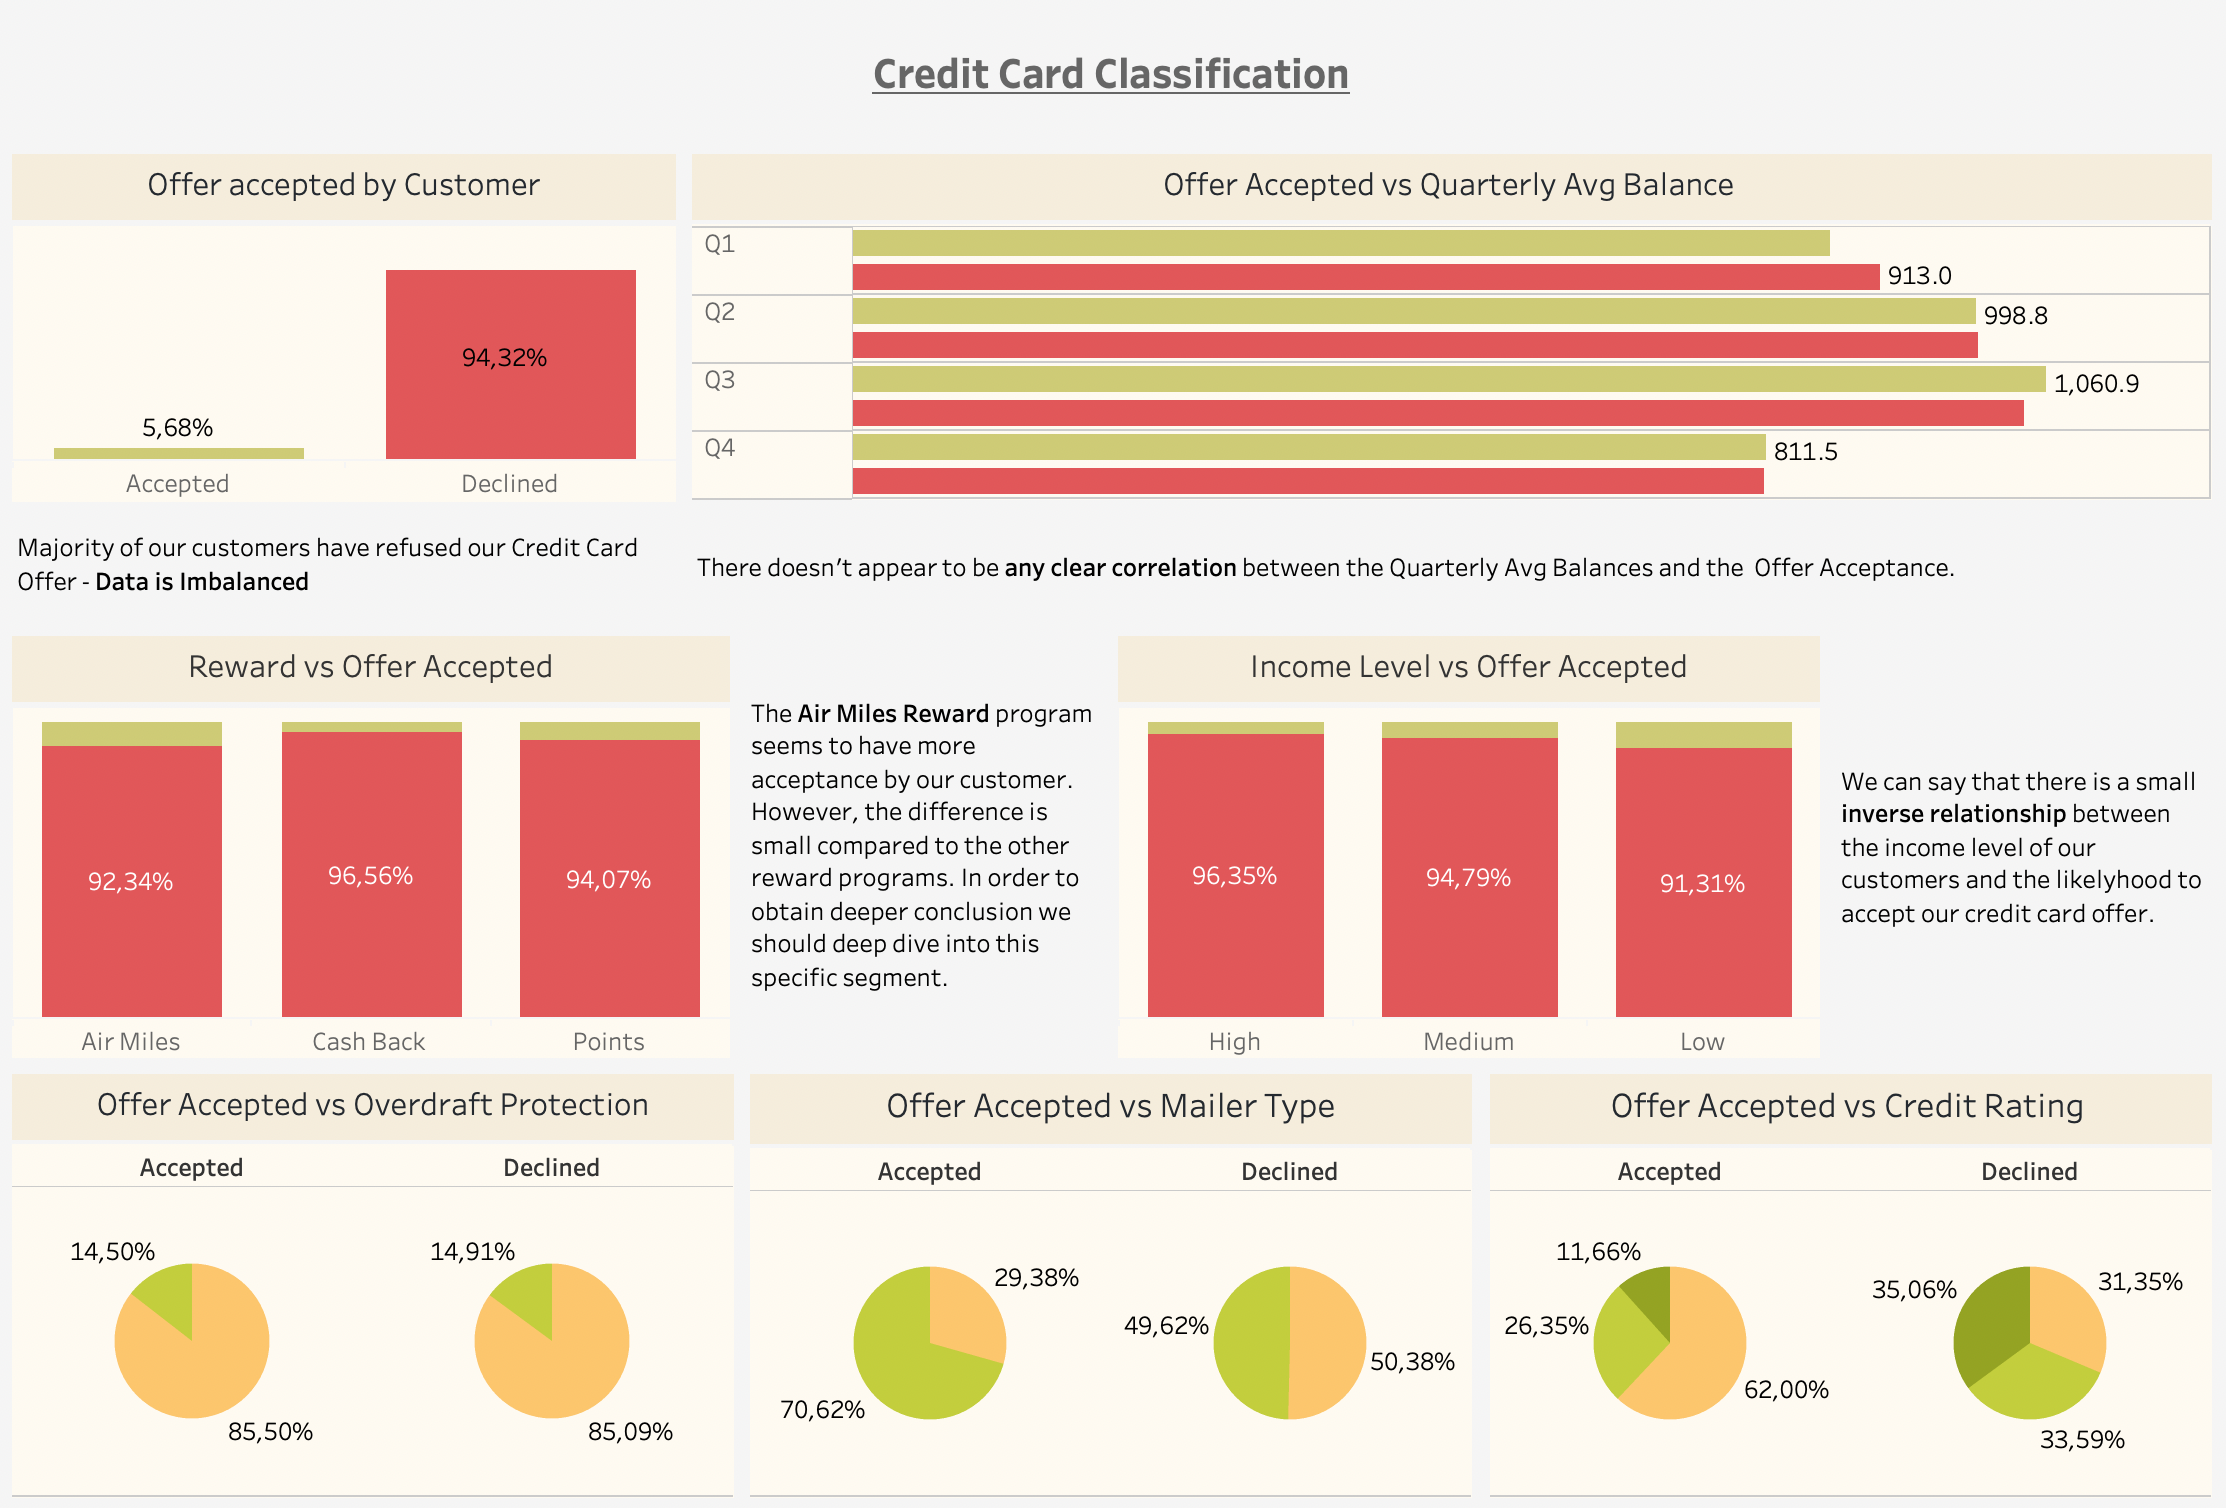

What the dashboard file says about the page in this screenshot:
{"tool":"tableau","page":{"name":"Task 9 - Dashboard","canvas":[1000,1000],"units":"permille","ordinal":0},"visuals":[{"type":"text","box":[6.7,12.8,865,95.7]},{"type":"filter","title":"Task 5(DB)","param":"[federated.0hzrslb0uli1vd15rb0dn1bhgdxv].[none:Offer_Accepted:nk]","box":[871.6,68.5,121.7,78.2]},{"type":"worksheet","title":"Task 3(DB)","mark":"Automatic","rows":["Customer_Number"],"cols":["Offer_Accepted"],"box":[6.7,108.4,265.2,235]},{"type":"worksheet","title":"Task 5(DB)","mark":"Bar","box":[271.8,108.4,599.8,234.4]},{"type":"filter","title":"Reward(DB)","param":"[federated.0hzrslb0uli1vd15rb0dn1bhgdxv].[none:Reward:nk]","box":[871.6,146.7,121.7,81.4]},{"type":"filter","title":"IncomeLevel(DB)","param":"[federated.0hzrslb0uli1vd15rb0dn1bhgdxv].[none:Income_Level:nk]","box":[871.6,228.1,121.7,81.3]},{"type":"filter","title":"Task 7.1 (DB)","param":"[federated.0hzrslb0uli1vd15rb0dn1bhgdxv].[none:Overdraft_Protection:nk]","box":[873.3,312.6,118.3,82.9]},{"type":"text","box":[271.8,342.9,599.8,76.6]},{"type":"text","box":[6.7,343.5,265.2,76]},{"type":"filter","title":"Task 7.2 (DB)","param":"[federated.0hzrslb0uli1vd15rb0dn1bhgdxv].[none:Mailer_Type:nk]","box":[873.3,395.5,118.3,82.9]},{"type":"worksheet","title":"Reward(DB)","mark":"Automatic","cols":["Reward"],"box":[6.7,419.4,286.6,283.9]},{"type":"text","box":[293.3,419.4,145.3,283.9]},{"type":"worksheet","title":"IncomeLevel(DB)","mark":"Automatic","cols":["Income_Level"],"box":[438.6,419.4,299.2,283.9]},{"type":"text","box":[737.8,419.4,133.9,283.9]},{"type":"filter","title":"Task 7.3 (DB)","param":"[federated.0hzrslb0uli1vd15rb0dn1bhgdxv].[none:Credit_Rating:nk]","box":[873.3,478.4,118.3,82.9]},{"type":"worksheet","title":"Task 7.1 (DB)","mark":"Pie","cols":["Offer_Accepted"],"box":[6.7,703.3,288.3,283.9]},{"type":"worksheet","title":"Task 7.2 (DB)","mark":"Pie","cols":["Offer_Accepted"],"box":[295,703.3,288.3,283.9]},{"type":"worksheet","title":"Task 7.3 (DB)","mark":"Pie","cols":["Offer_Accepted"],"box":[583.3,703.3,288.3,283.9]}]}

Visuals, with their boxes on the dashboard's canvas, which has no fixed pixel size, in thousandths of its width and height (x1, y1, x2, y2). These are canvas units, not pixel positions in the 2226x1508 screenshot, which may show the page scaled, cropped or inside an application window:
text: region(7, 13, 872, 108)
"Task 5(DB)" filter: region(872, 68, 993, 147)
"Task 3(DB)" worksheet: region(7, 108, 272, 343)
"Task 5(DB)" worksheet (Bar marks): region(272, 108, 872, 343)
"Reward(DB)" filter: region(872, 147, 993, 228)
"IncomeLevel(DB)" filter: region(872, 228, 993, 309)
"Task 7.1 (DB)" filter: region(873, 313, 992, 396)
text: region(272, 343, 872, 420)
text: region(7, 344, 272, 420)
"Task 7.2 (DB)" filter: region(873, 396, 992, 478)
"Reward(DB)" worksheet: region(7, 419, 293, 703)
text: region(293, 419, 439, 703)
"IncomeLevel(DB)" worksheet: region(439, 419, 738, 703)
text: region(738, 419, 872, 703)
"Task 7.3 (DB)" filter: region(873, 478, 992, 561)
"Task 7.1 (DB)" worksheet (Pie marks): region(7, 703, 295, 987)
"Task 7.2 (DB)" worksheet (Pie marks): region(295, 703, 583, 987)
"Task 7.3 (DB)" worksheet (Pie marks): region(583, 703, 872, 987)
